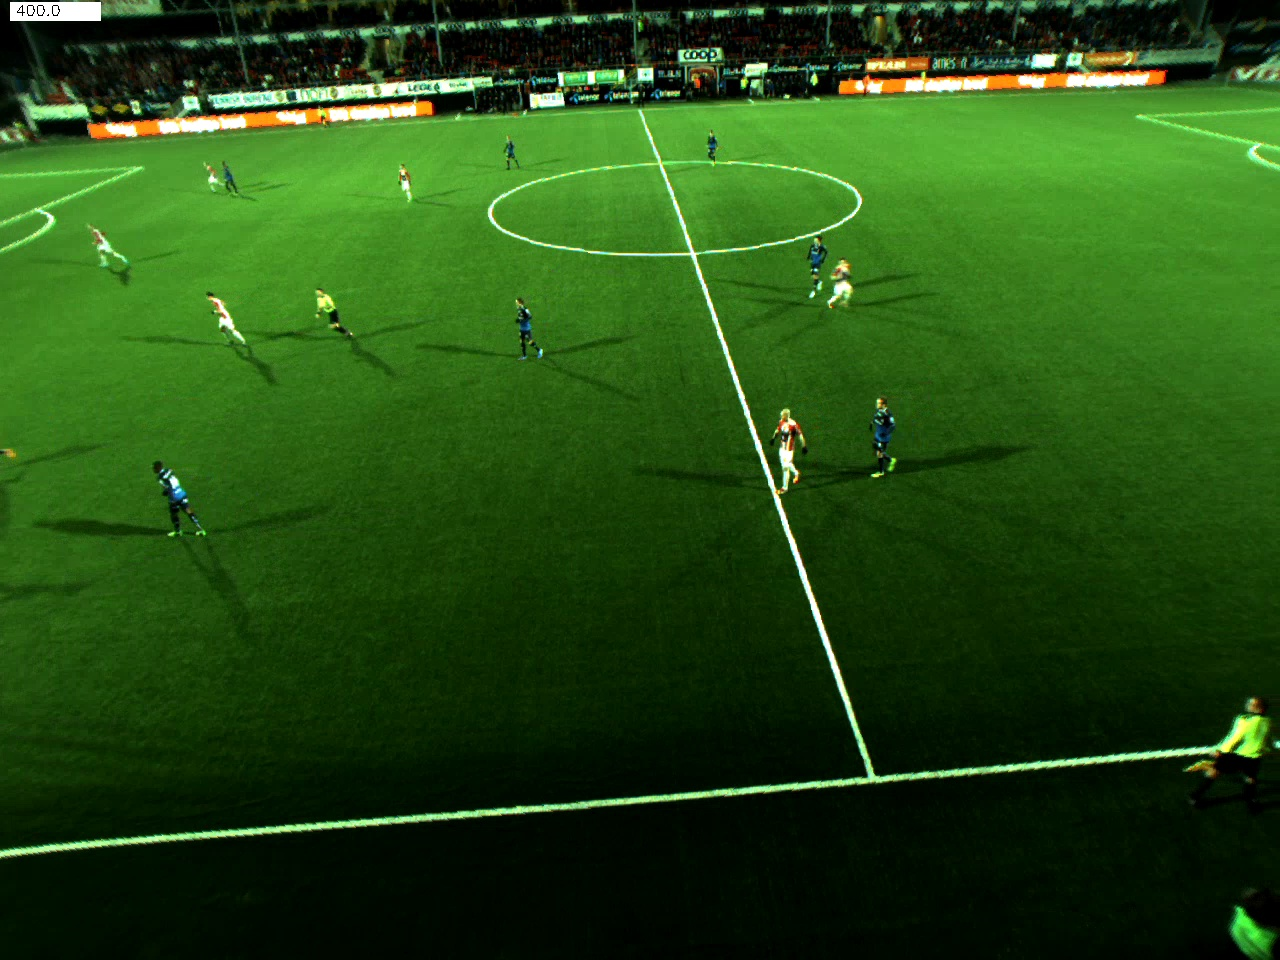blue: (860, 399, 926, 502), (149, 456, 216, 542), (502, 295, 551, 366), (801, 228, 824, 301), (501, 132, 527, 164), (696, 125, 714, 163)
red: (83, 217, 141, 275), (773, 412, 801, 509), (202, 289, 246, 350), (827, 250, 859, 319), (396, 162, 427, 205), (191, 157, 216, 194)
yellow: (310, 284, 360, 342)
